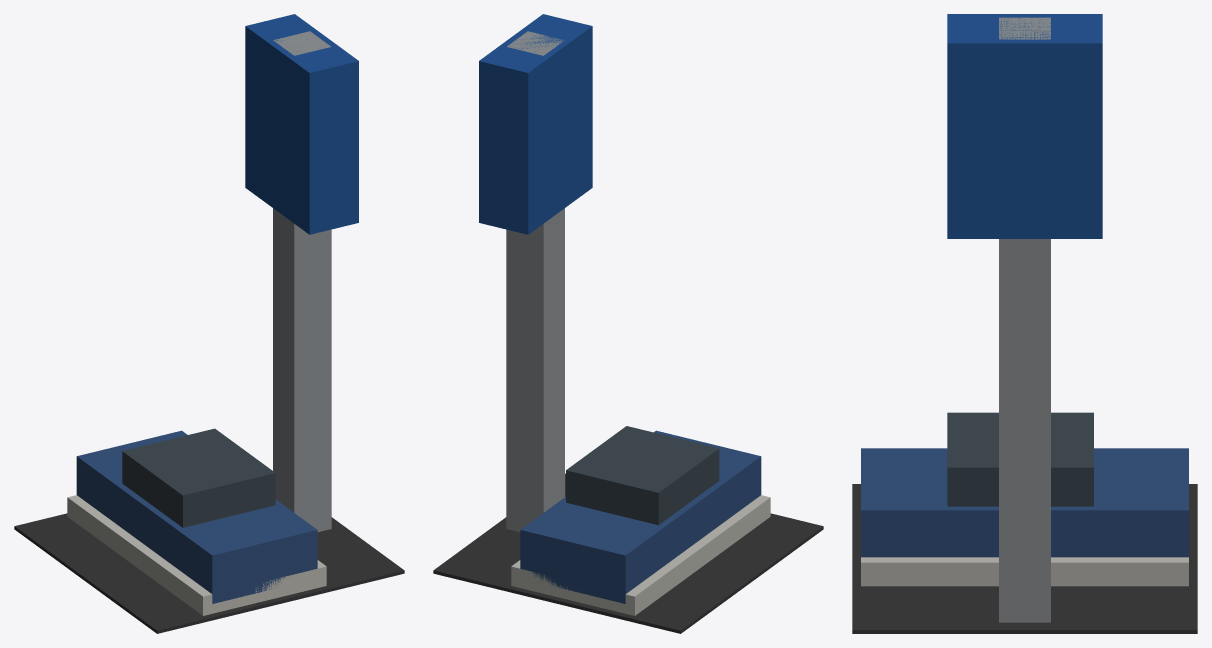
File: totem.glb
3 renders of one model, left to right at view 1: azimuth 30°, elevation 25°; view 2: azimuth 150°, elevation 25°; view 3: azimuth 270°, elevation 25°, orthographic. The views are drawn at different scales.
Visible parts, largest first — view 1: totem; view 2: totem; view 3: totem.
Boxes of the visible parts, <box> form: totem: <box>14,14,404,633</box>; totem: <box>433,14,823,633</box>; totem: <box>852,14,1197,633</box>.
Size of the model in its own units: 4 by 7.5 by 4.
